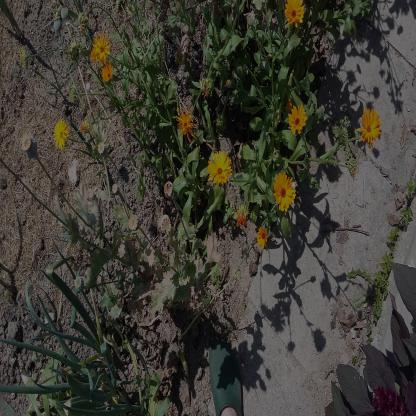marigold: (272, 170, 296, 212), (206, 150, 233, 187), (360, 107, 382, 150), (175, 105, 196, 141), (91, 32, 112, 64), (283, 0, 306, 29), (287, 104, 308, 134), (52, 119, 70, 151), (254, 223, 268, 249), (102, 61, 114, 82)
